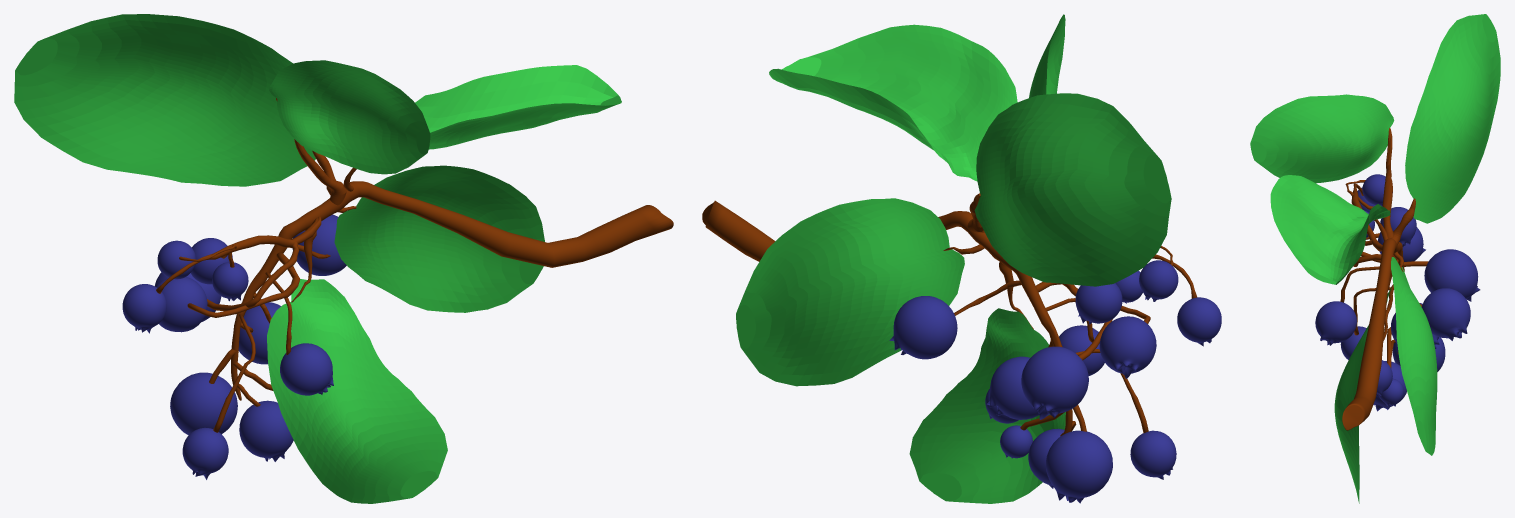
File: color-berry.glb
3 views of the same model, side by side, from view 1: azimuth 30°, elevation 25°; view 2: azimuth 150°, elevation 25°; view 3: azimuth 270°, elevation 25° (orthographic). The views are drawn at different scales.
Visible parts, largest first — view 1: SB_1; view 2: SB_1; view 3: SB_1.
Boxes of the visible parts, x1,y1,x2,y2 form: SB_1: [14, 14, 673, 503]; SB_1: [702, 14, 1221, 503]; SB_1: [1250, 14, 1500, 503].
Size of the model in its own units: 14.47 by 12.14 by 7.
